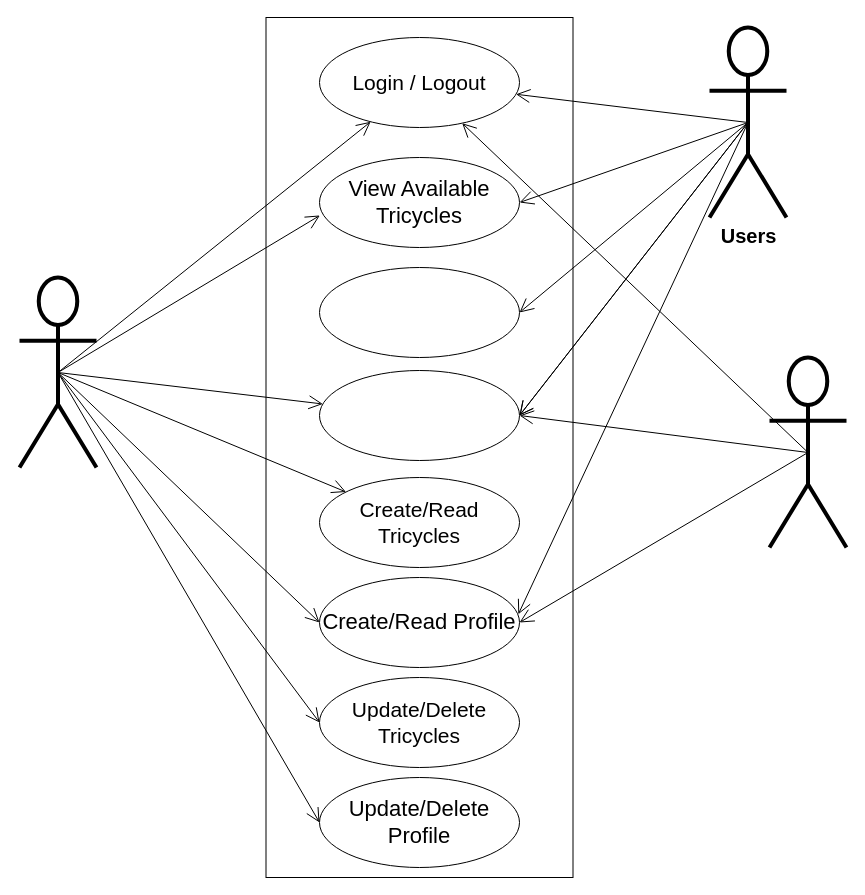
This 865x895 diagram has some shape labels left out. The centre of each missing label's shape, as x and y in pixels:
"Admin" goes at point (57, 372).
"Book Tricycles" goes at point (419, 312).
"Drivers" goes at point (807, 452).
"View / Confirm Bookings" goes at point (419, 415).
